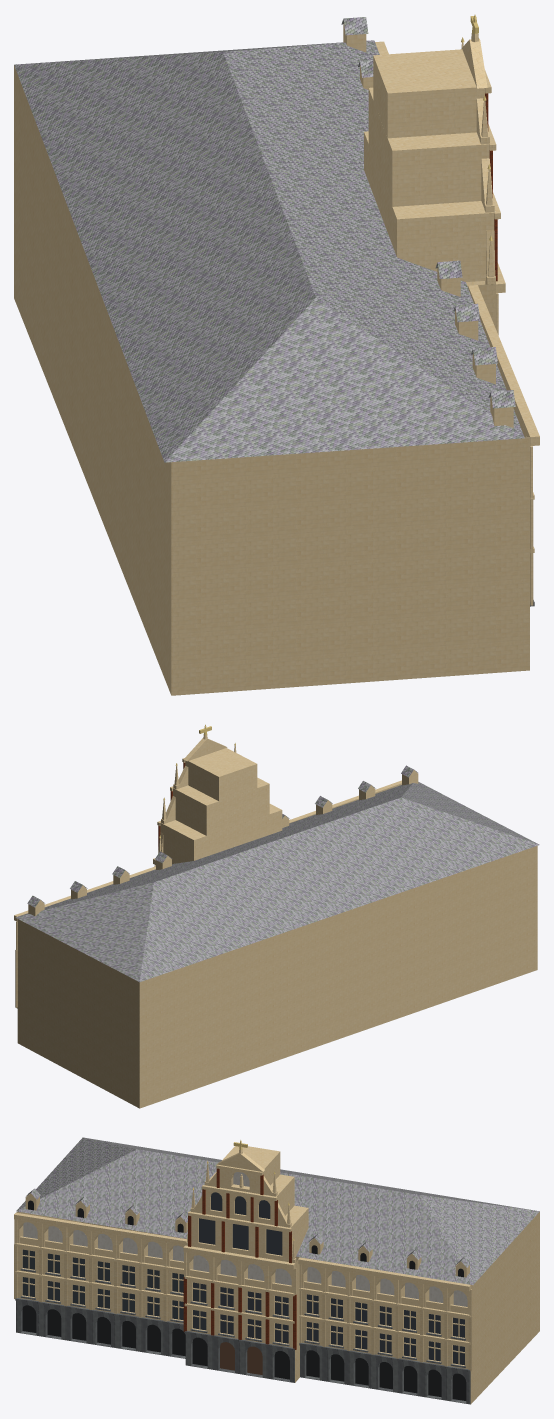
3 renders of one model, top to bottom at view 1: azimuth 30°, elevation 25°; view 2: azimuth 150°, elevation 25°; view 3: azimuth 270°, elevation 25°, orthographic. The views are drawn at different scales.
Parts seen in each view (by area): view 1: bldg_22966134_landmark; view 2: bldg_22966134_landmark; view 3: bldg_22966134_landmark.
Part boxes in pixels (x1=…): bldg_22966134_landmark: x1=14, y1=14, x2=539, y2=695; bldg_22966134_landmark: x1=14, y1=724, x2=539, y2=1108; bldg_22966134_landmark: x1=14, y1=1137, x2=539, y2=1404.
Bounding box in the file's own units: 48.87 × 35.72 × 72.77.
Materials: 10 (6 with a texture image).
